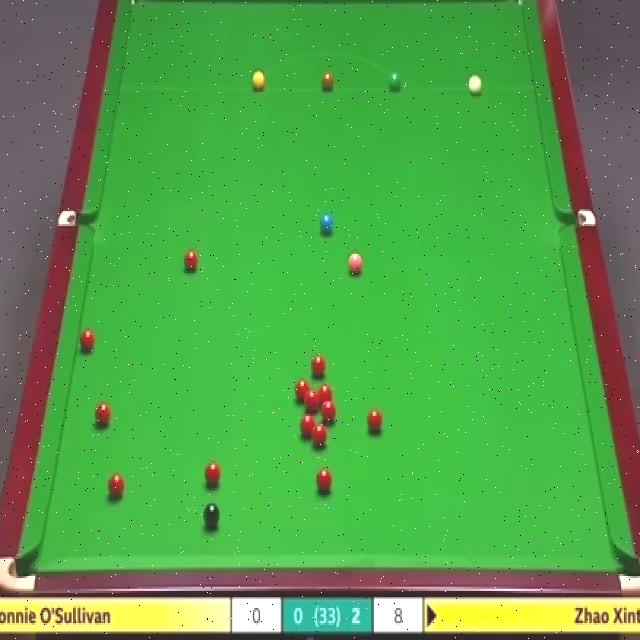black-ball: (203, 503, 221, 532)
blue-ball: (319, 211, 334, 236)
brown-ball: (321, 69, 334, 91)
green-ball: (388, 73, 402, 93)
pink-ball: (348, 251, 363, 274)
red-ball: (106, 472, 125, 501), (366, 407, 384, 436), (77, 328, 95, 356), (95, 399, 111, 427), (316, 466, 332, 494), (205, 461, 222, 486), (310, 354, 326, 380), (299, 413, 315, 439), (294, 378, 309, 402), (312, 425, 327, 449), (184, 248, 198, 271), (318, 385, 332, 407), (322, 401, 336, 423), (304, 389, 318, 410)
white-ball: (467, 70, 483, 98)
yellow-ball: (252, 70, 265, 92)
